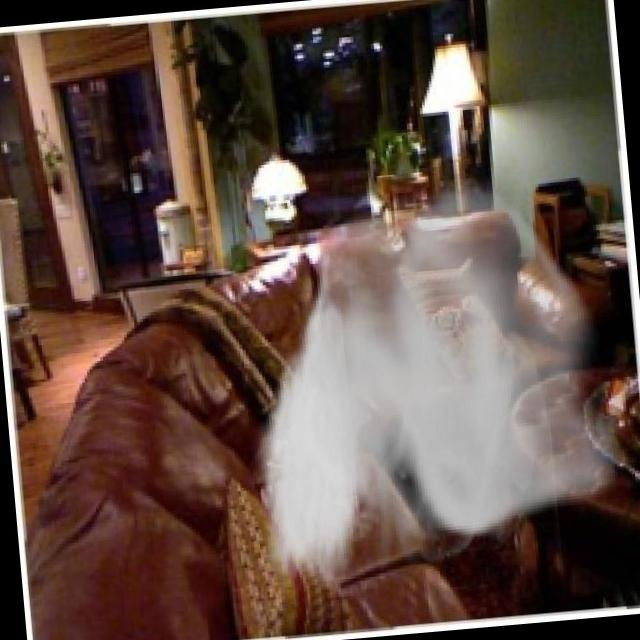Smoke: (228, 159, 626, 603)
